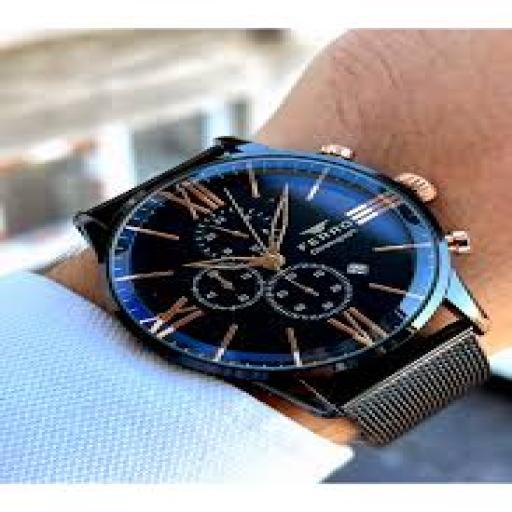KolSaati: (16, 97, 505, 444)
